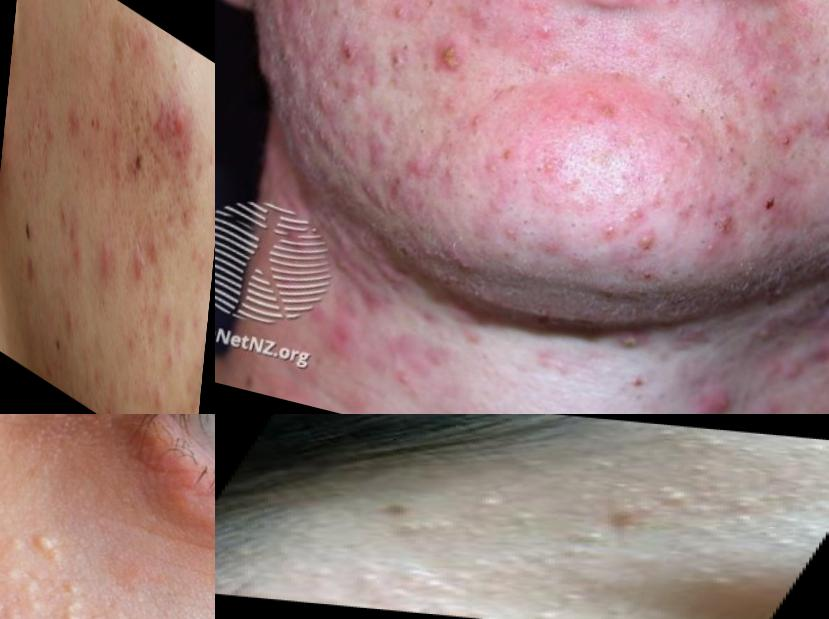acne_scars: (123, 141, 149, 191), (146, 132, 169, 179)
blackhead: (659, 188, 709, 230), (593, 174, 640, 212), (731, 152, 765, 185), (702, 142, 736, 173), (798, 40, 829, 74), (716, 136, 748, 162), (676, 86, 700, 108), (693, 102, 715, 126), (562, 213, 586, 235), (715, 109, 735, 129), (818, 19, 829, 55)
cystic: (409, 118, 441, 146)
keloid: (290, 104, 377, 180), (322, 252, 403, 329), (772, 311, 829, 405), (253, 36, 315, 106), (319, 197, 378, 258)
milium: (1, 563, 67, 619), (26, 530, 81, 574), (1, 517, 49, 563), (55, 570, 96, 603), (55, 588, 98, 619)
papular: (573, 496, 682, 538), (565, 78, 632, 137), (518, 141, 575, 193), (739, 63, 795, 114), (435, 239, 495, 283), (397, 148, 445, 190), (711, 199, 751, 240), (381, 44, 425, 81), (97, 235, 121, 300), (691, 228, 728, 267), (433, 154, 470, 191), (128, 239, 150, 300), (167, 100, 193, 151), (496, 218, 531, 253), (473, 152, 510, 185), (458, 107, 493, 139), (770, 123, 802, 157), (812, 184, 829, 238), (149, 378, 170, 415), (72, 233, 88, 275), (810, 107, 829, 142)
purulent: (426, 31, 477, 82), (667, 384, 747, 415), (628, 223, 667, 257), (380, 1, 422, 32), (530, 19, 568, 52), (594, 214, 632, 247), (465, 1, 517, 24), (614, 324, 649, 358), (67, 97, 86, 153)
whitehead: (324, 560, 522, 616), (621, 423, 776, 465), (663, 551, 779, 597), (520, 585, 662, 619), (649, 116, 712, 178), (375, 518, 454, 553), (454, 485, 540, 515)
